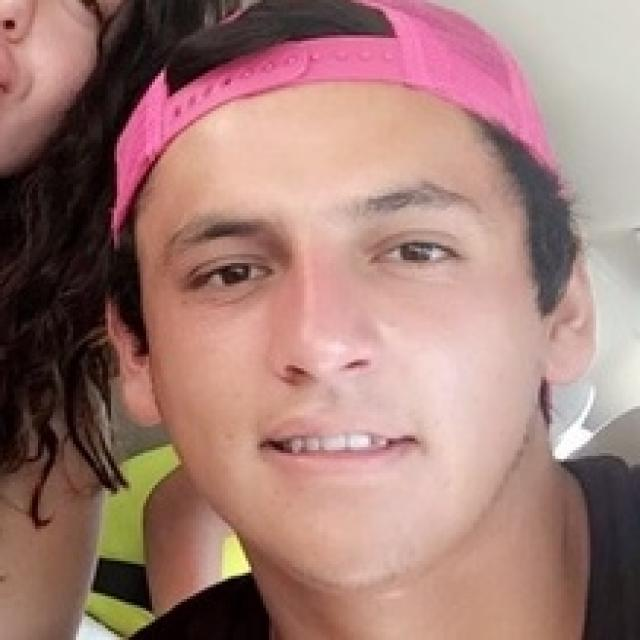Normal: (133, 81, 543, 589)
